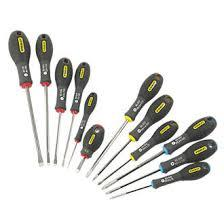screwdriver: (101, 114, 217, 190), (84, 72, 162, 177), (91, 93, 173, 180), (104, 137, 217, 194), (96, 119, 178, 185), (6, 27, 44, 165), (108, 160, 210, 200), (59, 61, 89, 167), (66, 88, 98, 165), (35, 32, 51, 163), (53, 55, 71, 169), (74, 124, 105, 170)
